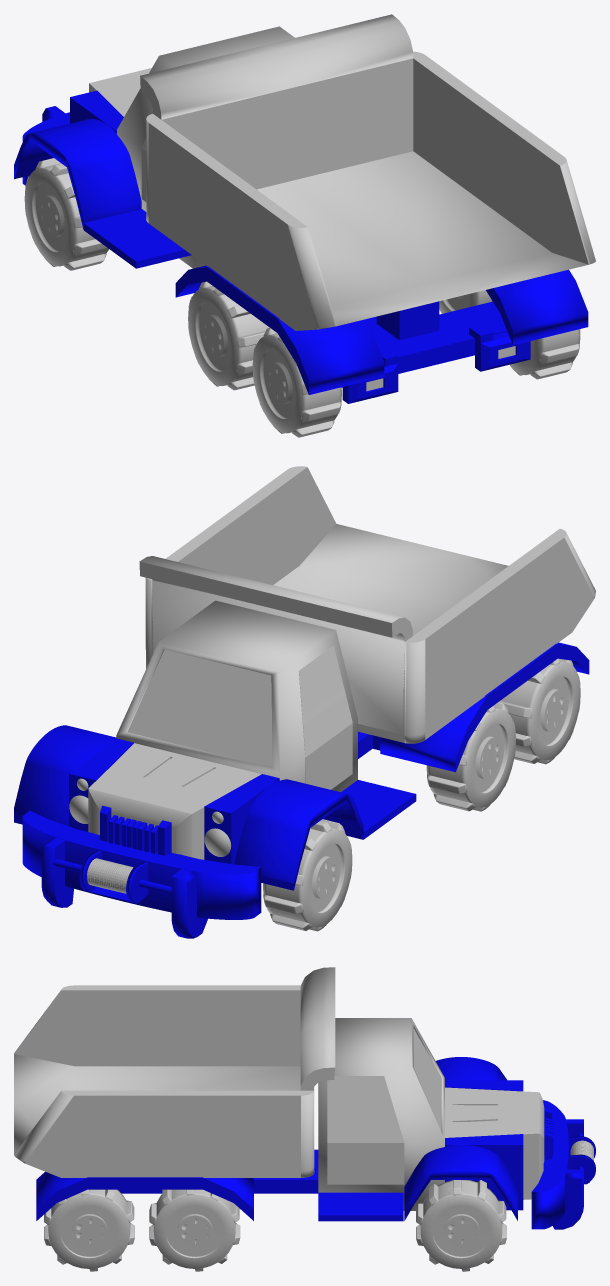
Rendered from Самосвал всё .fbx.
3 views of the same model, one above another, from view 1: azimuth 30°, elevation 25°; view 2: azimuth 150°, elevation 25°; view 3: azimuth 270°, elevation 25° (orthographic). The views are drawn at different scales.
Visible parts, largest first — view 1: Cube.019, Cube.002, Cube.003, Cylinder.004, Cylinder.005, Cylinder.003, Cube, Cube.012, Cube.004, Cube.001, Cylinder, Cube.020 (+3 smaller); view 2: Cube.019, Cube.012, Cube.003, Cube.017, Cube.005, Cube.007, Cylinder.005, Cylinder.003, Cylinder.004, Cube.002, Cube.014, Cube.006 (+7 smaller); view 3: Cube.019, Cube.012, Cylinder.002, Cube.013, Cylinder.001, Cylinder, Cube.005, Cube.003, Cube.002, Cube.007, Cube.006, Cube.004 (+5 smaller).
Part boxes in pixels (x1,y1,x2,y2): Cube.019: [140, 14, 595, 330]; Cube.002: [175, 265, 588, 394]; Cube.003: [14, 118, 141, 229]; Cylinder.004: [188, 281, 269, 390]; Cylinder.005: [24, 158, 108, 270]; Cylinder.003: [252, 328, 341, 437]; Cube: [341, 301, 507, 387]; Cube.012: [117, 26, 294, 268]; Cube.004: [84, 209, 191, 268]; Cube.001: [342, 324, 530, 403]; Cylinder: [491, 300, 580, 379]; Cube.020: [376, 301, 439, 340]; Cube.019: [139, 466, 595, 743]; Cube.012: [116, 600, 357, 792]; Cube.003: [14, 725, 363, 890]; Cube.017: [127, 649, 272, 767]; Cube.005: [88, 743, 261, 859]; Cube.007: [22, 810, 261, 919]; Cylinder.005: [263, 819, 352, 931]; Cylinder.003: [498, 658, 580, 764]; Cylinder.004: [426, 702, 515, 811]; Cube.002: [380, 642, 589, 772]; Cube.014: [298, 645, 352, 789]; Cube.006: [69, 738, 279, 864]; Cube.019: [14, 967, 335, 1177]; Cube.012: [318, 1018, 444, 1210]; Cylinder.002: [416, 1180, 506, 1271]; Cube.013: [327, 1076, 404, 1184]; Cylinder.001: [149, 1189, 240, 1271]; Cylinder: [44, 1189, 134, 1271]; Cube.005: [445, 1087, 544, 1199]; Cube.003: [404, 1057, 517, 1220]; Cube.002: [36, 1171, 253, 1220]; Cube.007: [531, 1100, 568, 1229]; Cube.006: [445, 1080, 523, 1210]; Cube.004: [318, 1192, 403, 1221].
Bounding box in the file's own units: 740 × 624 × 1635.
